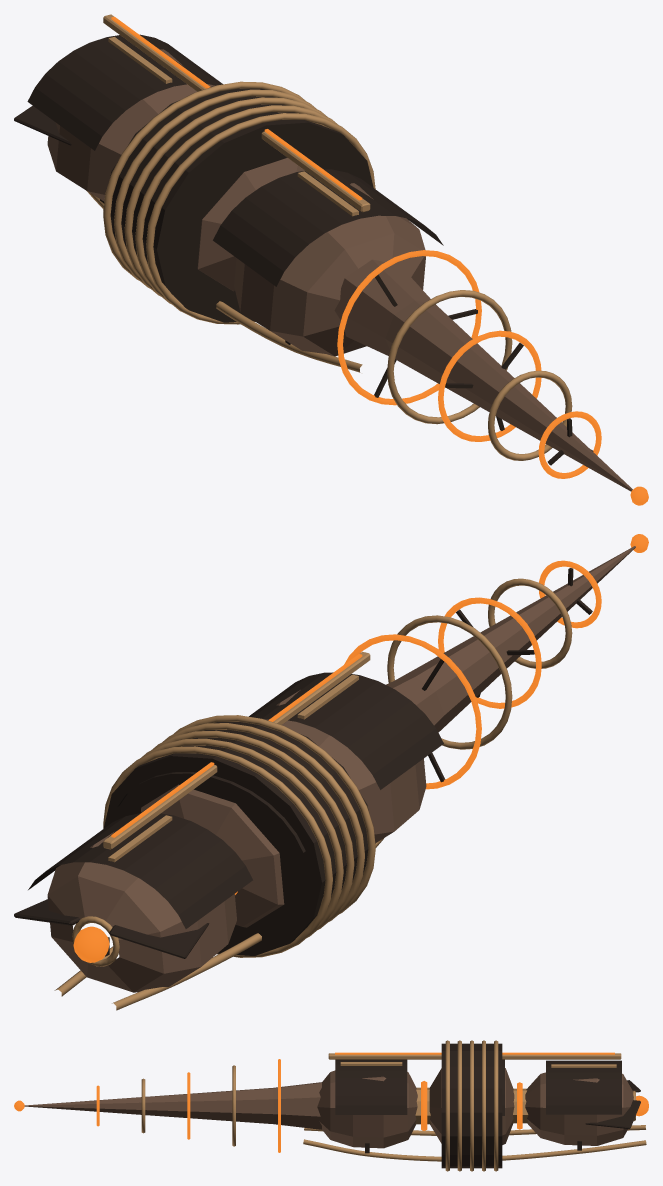
File: elda.glb
The picture shows the model from 3 angles, top to bottom: view 1: azimuth 30°, elevation 25°; view 2: azimuth 150°, elevation 25°; view 3: azimuth 270°, elevation 25°; orthographic projection. The views are drawn at different scales.
Visible parts, largest first — view 1: hull2, hull, trim, team_glow; view 2: hull2, hull, trim, team_glow; view 3: hull, hull2, trim, team_glow.
Part boxes in pixels (x1,y1,x2,y2): hull2: [14, 34, 593, 465]; hull: [47, 49, 632, 491]; trim: [87, 14, 572, 460]; team_glow: [111, 16, 648, 505]; hull2: [14, 568, 592, 958]; hull: [47, 546, 635, 992]; trim: [54, 578, 572, 1010]; team_glow: [73, 534, 648, 962]; hull: [24, 1068, 633, 1148]; hull2: [335, 1043, 640, 1168]; trim: [141, 1040, 646, 1171]; team_glow: [14, 1052, 648, 1152].
Bounding box in the file's own units: 2.48 × 2.11 × 10.5.
